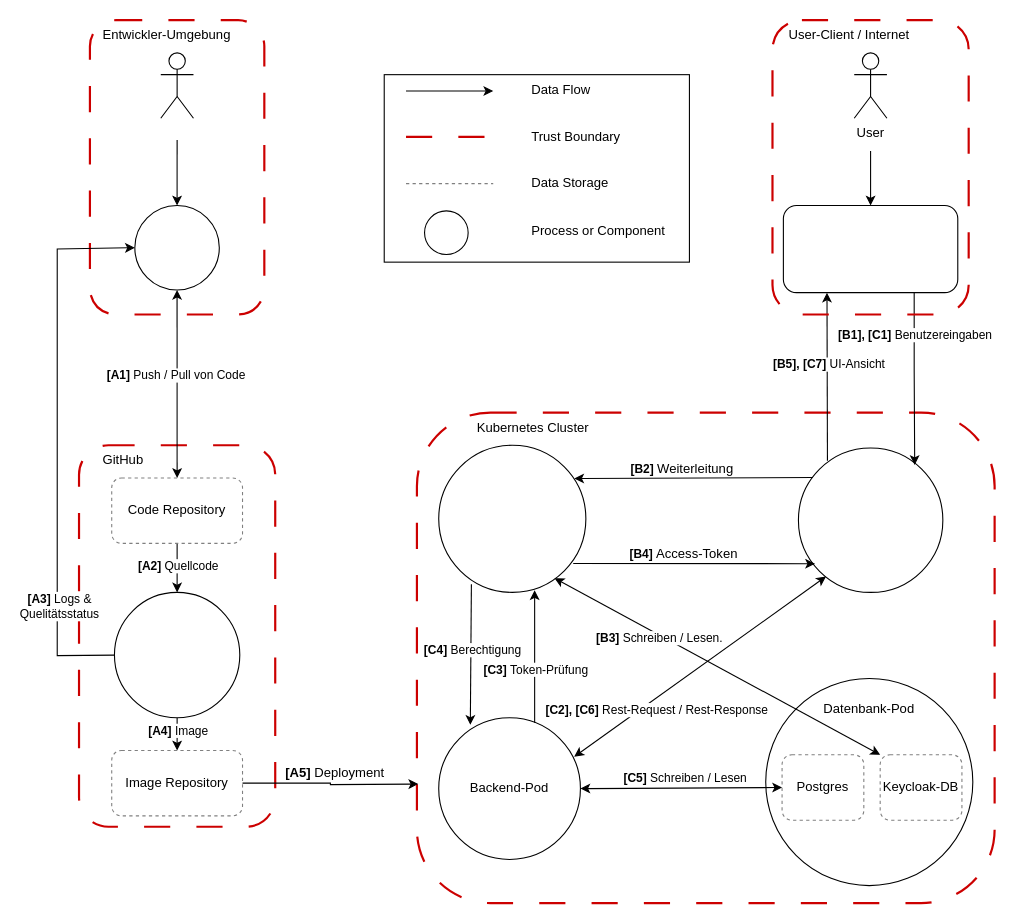
Image size: 1014x922. Some labels were removed from this diagram. Here are the shapes that lost their labels. From the top down, the centre of each, then its label:
(x=176, y=85): Developer
(x=176, y=247): Develooper Client
(x=870, y=248): Browser
(x=512, y=518): Keycloak-Pod
(x=870, y=519): Frontend-Pod
(x=176, y=654): GitHub Actions
